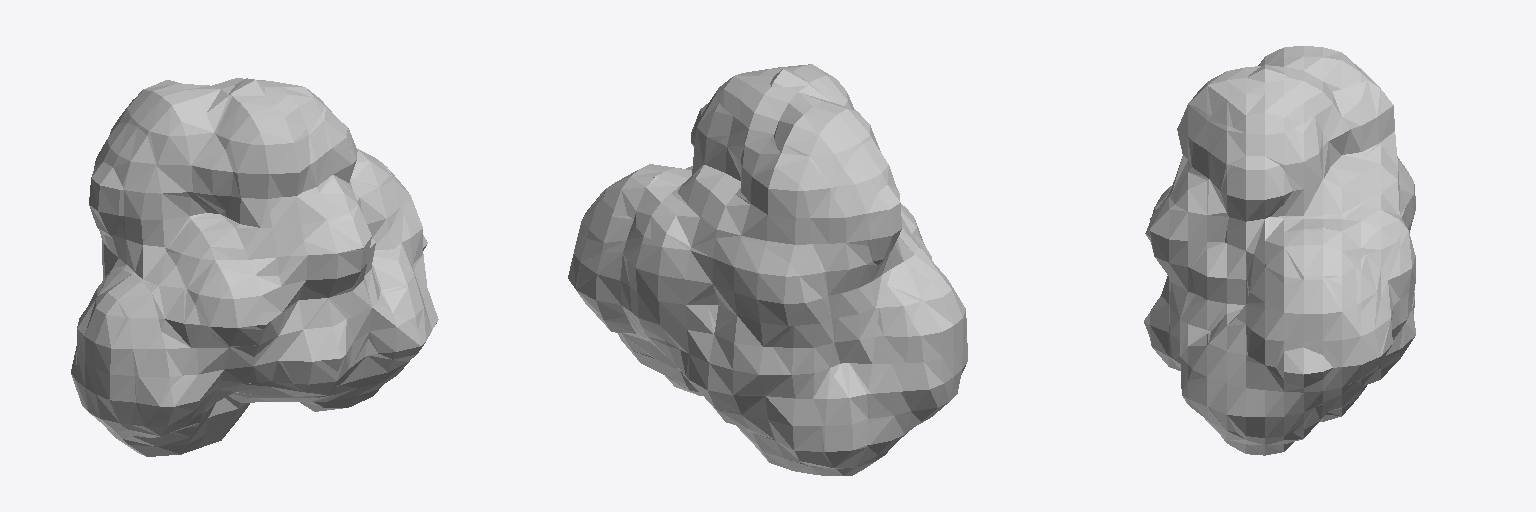
Rendered from 1dkr_1_cms.obj.
3 renders of one model, left to right at view 1: azimuth 30°, elevation 25°; view 2: azimuth 150°, elevation 25°; view 3: azimuth 270°, elevation 25°, orthographic.
Size of the model in its own units: 130 by 127 by 85.62.